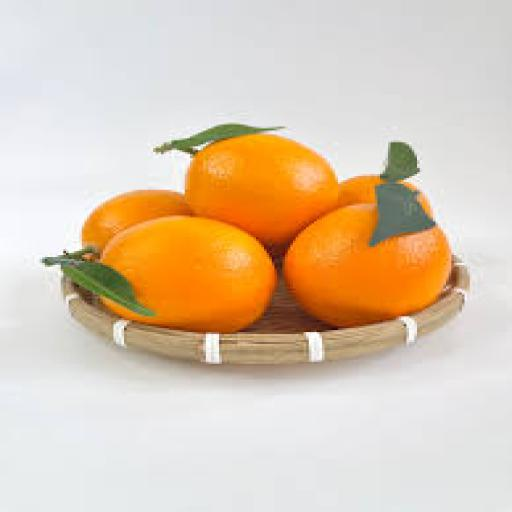orange: (101, 216, 277, 332), (286, 204, 451, 326), (185, 135, 337, 247), (82, 190, 192, 251), (338, 174, 385, 207)
